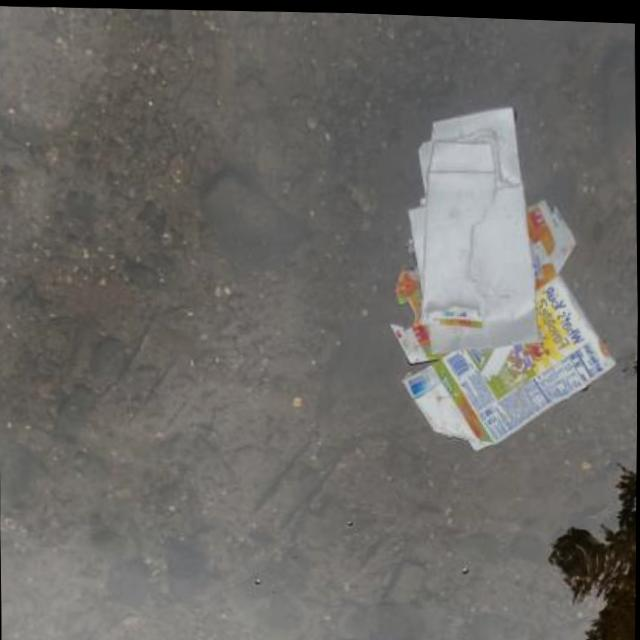Cardboard: (389, 93, 621, 455)
